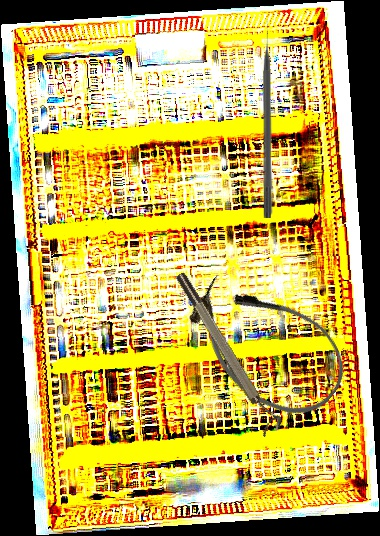Cannula: (170, 256, 363, 436)
Fixation Ring: (172, 266, 286, 438)
Pusher: (263, 19, 274, 218)
